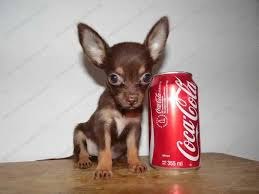chihuahua: (62, 11, 170, 185)
